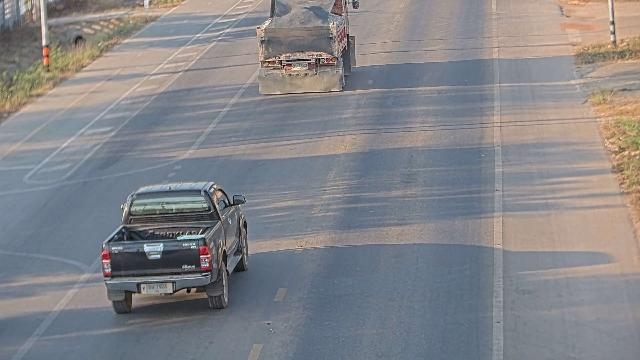pickup-truck: (100, 180, 250, 314)
truck: (251, 0, 359, 96)
